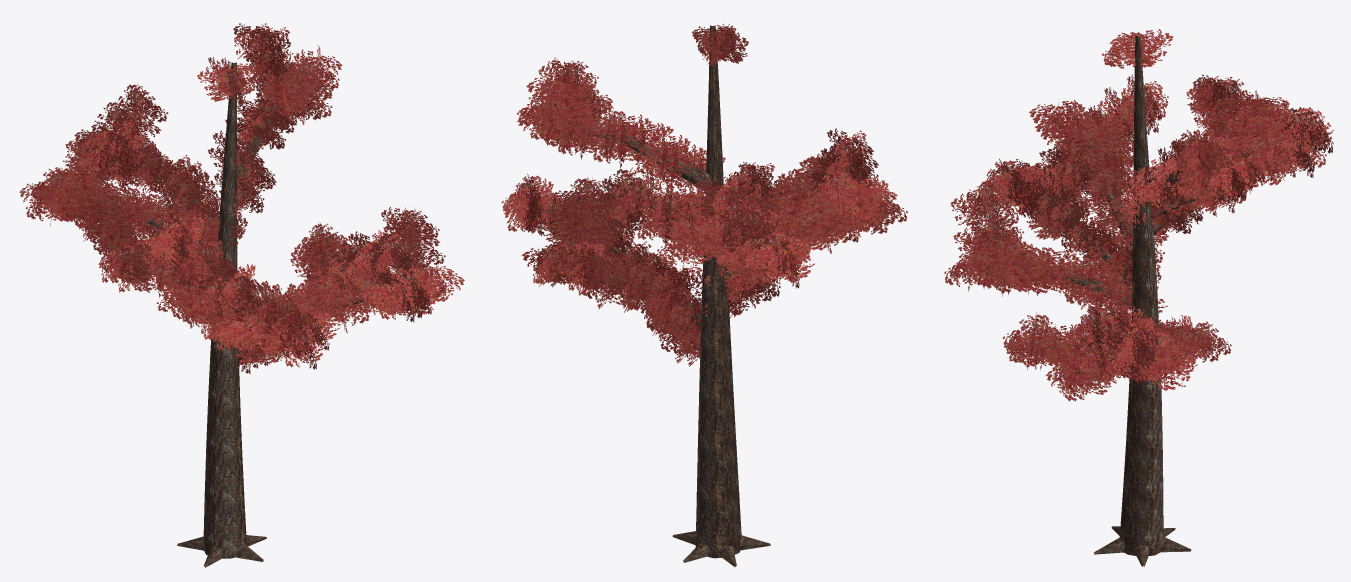
File: tree_3d_05_red_lod0.glb
The picture shows the model from 3 angles, left to right: view 1: azimuth 30°, elevation 25°; view 2: azimuth 150°, elevation 25°; view 3: azimuth 270°, elevation 25°; orthographic projection. The views are drawn at different scales.
Visible parts, largest first — view 1: foliage_cards, wood_geometry; view 2: foliage_cards, wood_geometry; view 3: foliage_cards, wood_geometry.
Boxes of the visible parts, x1=… form: foliage_cards: x1=19, y1=23, x2=464, y2=373; wood_geometry: x1=91, y1=47, x2=432, y2=567; foliage_cards: x1=501, y1=24, x2=907, y2=366; wood_geometry: x1=520, y1=25, x2=854, y2=566; foliage_cards: x1=944, y1=29, x2=1333, y2=401; wood_geometry: x1=983, y1=35, x2=1301, y2=566.
Bounding box in the file's own units: 11.23 × 14.66 × 10.09.
2 materials, 2 textured.
